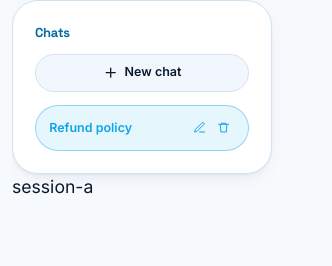
Test: ChatSessionsPanel: create › clicking "New chat" creates a session and navigates to it
The width and height of the screenshot is (332, 266).
expect the button "Refund policy" is shown: met, box left=49, top=119, right=182, bottom=137
Click the button "New chat" at (142, 73), box left=35, top=54, right=249, bottom=92
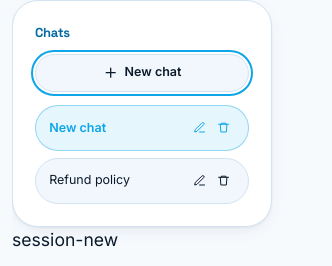
expect the text with test id "current-session" reads "session-new": met, box left=12, top=229, right=118, bottom=250
